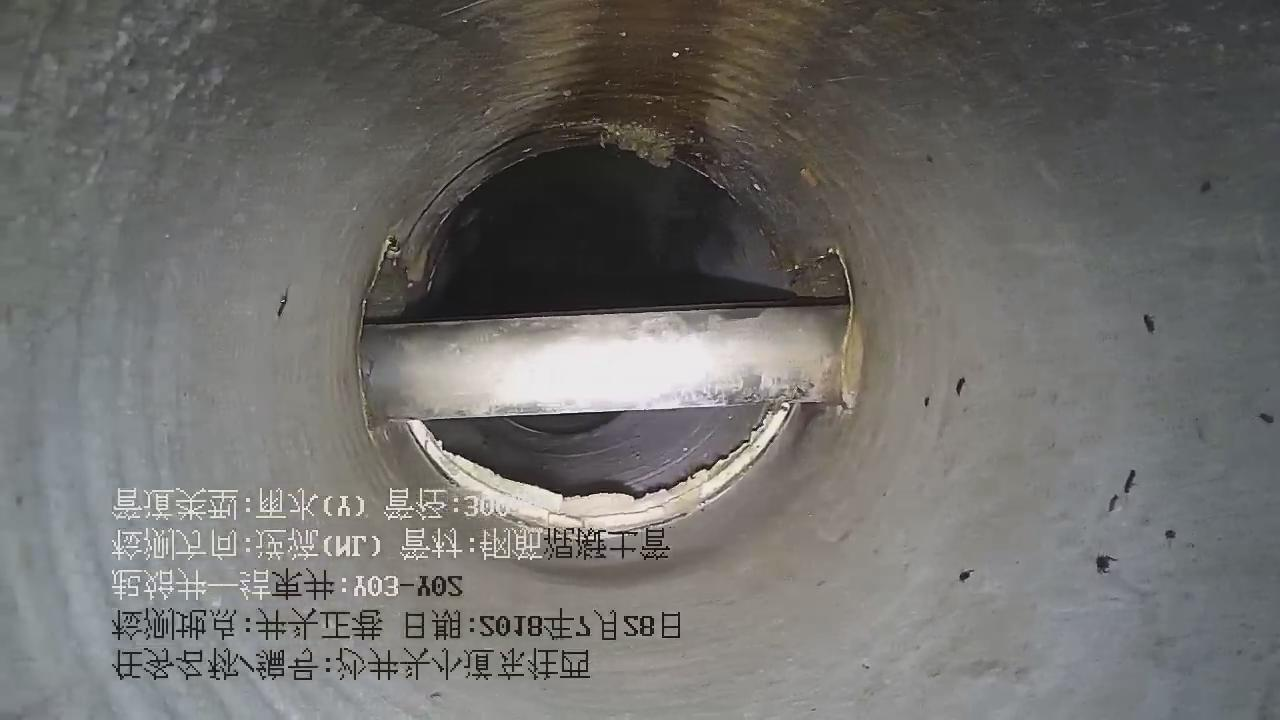CKTJ: (387, 390, 811, 546)
YWCR: (360, 305, 850, 422)
